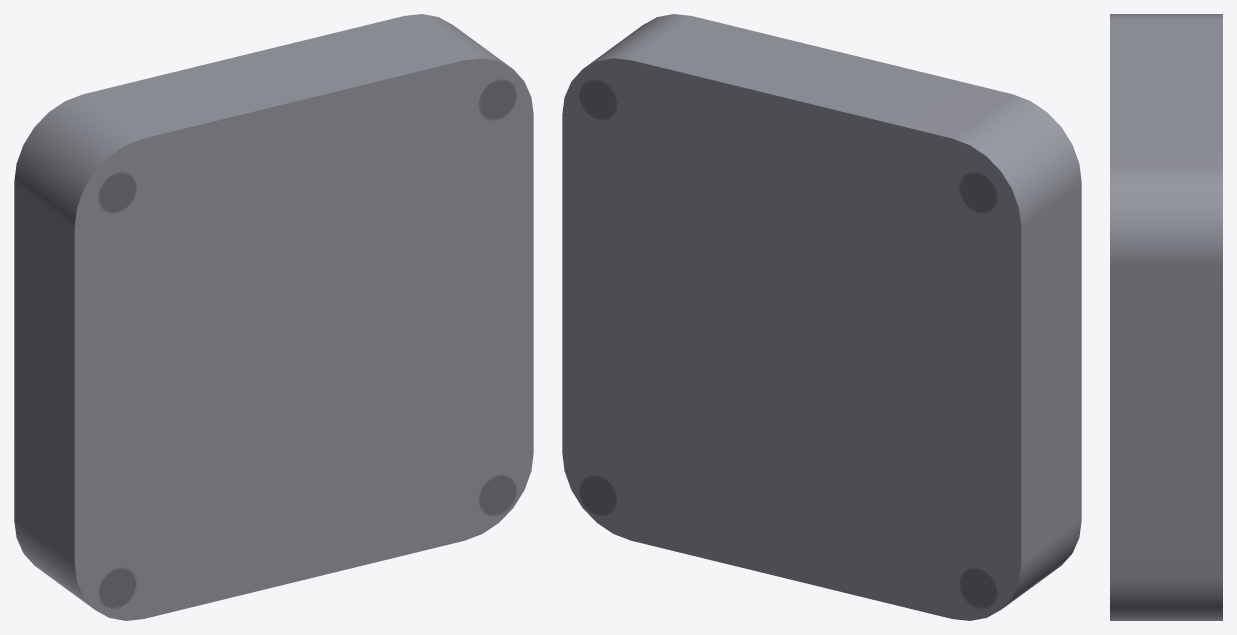
The model's file is Obstacle_Type1.fbx.
3 views of the same model, side by side, from view 1: azimuth 30°, elevation 25°; view 2: azimuth 150°, elevation 25°; view 3: azimuth 270°, elevation 25° (orthographic). The views are drawn at different scales.
Visible parts, largest first — view 1: Block_Type1; view 2: Block_Type1; view 3: Block_Type1.
Part boxes in pixels (<box>): Block_Type1: <box>14,14,533,620</box>; Block_Type1: <box>562,14,1081,620</box>; Block_Type1: <box>1110,14,1222,620</box>.
Size of the model in its own units: 150 by 150 by 34.2.
1 material, 1 textured.
